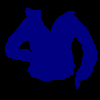felpa: (4, 8, 97, 89)
